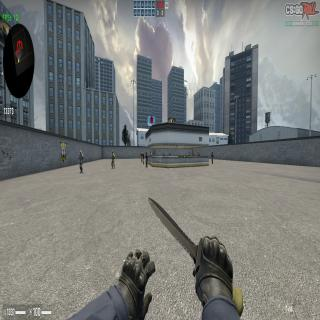CT-Body: (78, 150, 84, 174), (111, 151, 115, 169), (145, 151, 148, 168), (211, 152, 214, 164), (162, 152, 165, 155), (150, 152, 152, 156), (198, 152, 200, 156), (189, 152, 190, 156)
CT-Head: (80, 150, 82, 155), (112, 150, 114, 154), (198, 151, 200, 154), (188, 152, 190, 154), (150, 152, 151, 154), (163, 152, 164, 153), (146, 151, 146, 154), (212, 152, 212, 154)
T-Body: (142, 152, 144, 165), (140, 152, 142, 163), (169, 152, 171, 156), (193, 152, 195, 156)
T-Head: (142, 152, 144, 154), (169, 152, 170, 154), (141, 152, 142, 154), (194, 152, 194, 154)
